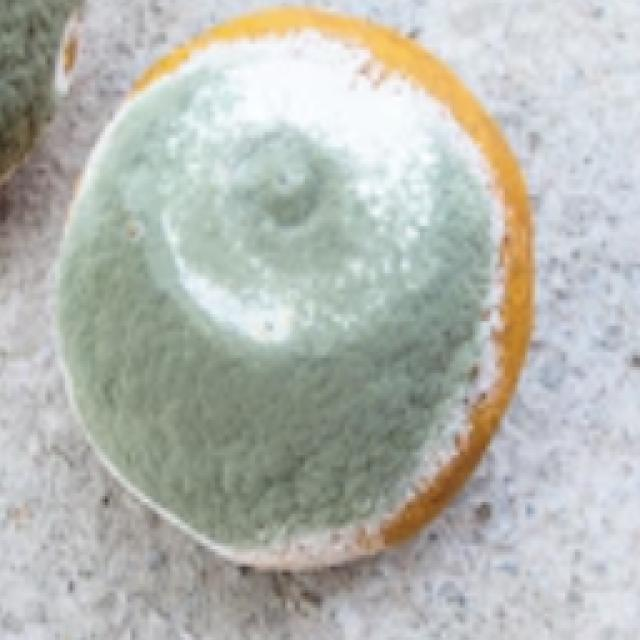rotten-orange: (43, 13, 537, 581)
